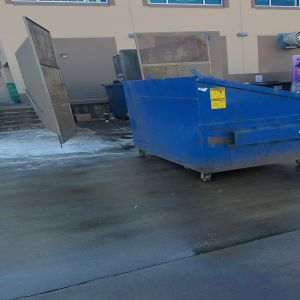Dumpster: (123, 79, 300, 184)
